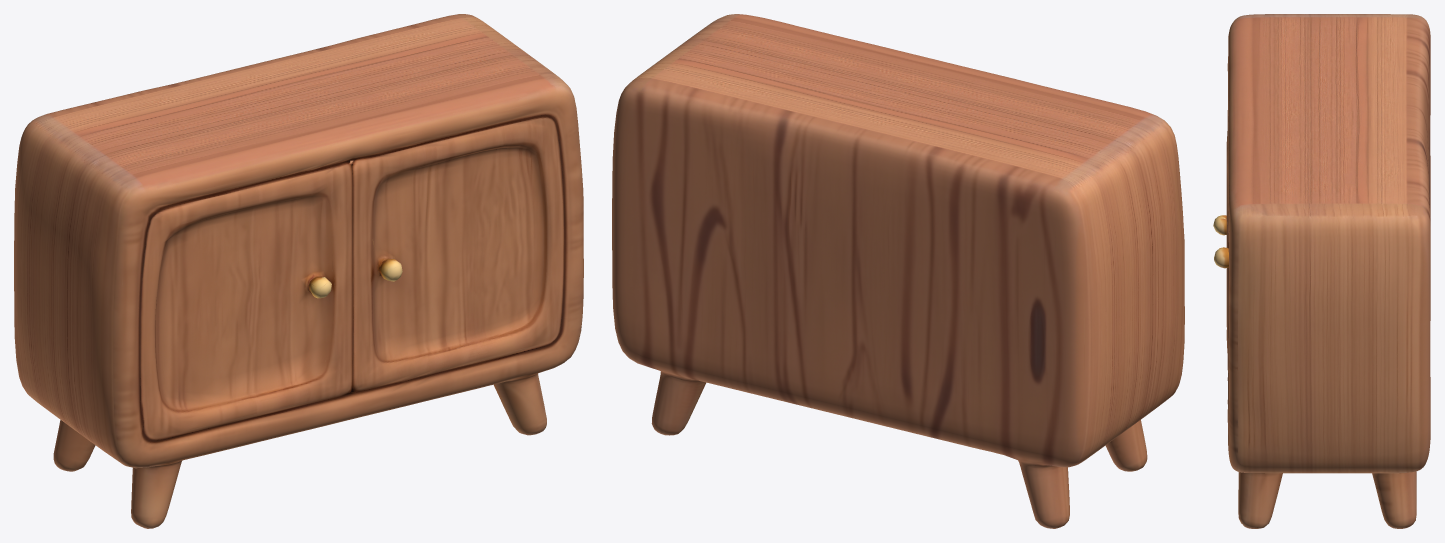
The model's file is WoodenCabi.glb.
3 views of the same model, side by side, from view 1: azimuth 30°, elevation 25°; view 2: azimuth 150°, elevation 25°; view 3: azimuth 270°, elevation 25° (orthographic). The views are drawn at different scales.
Size of the model in its own units: 2 by 1.39 by 0.8317.
1 material, 1 textured.
